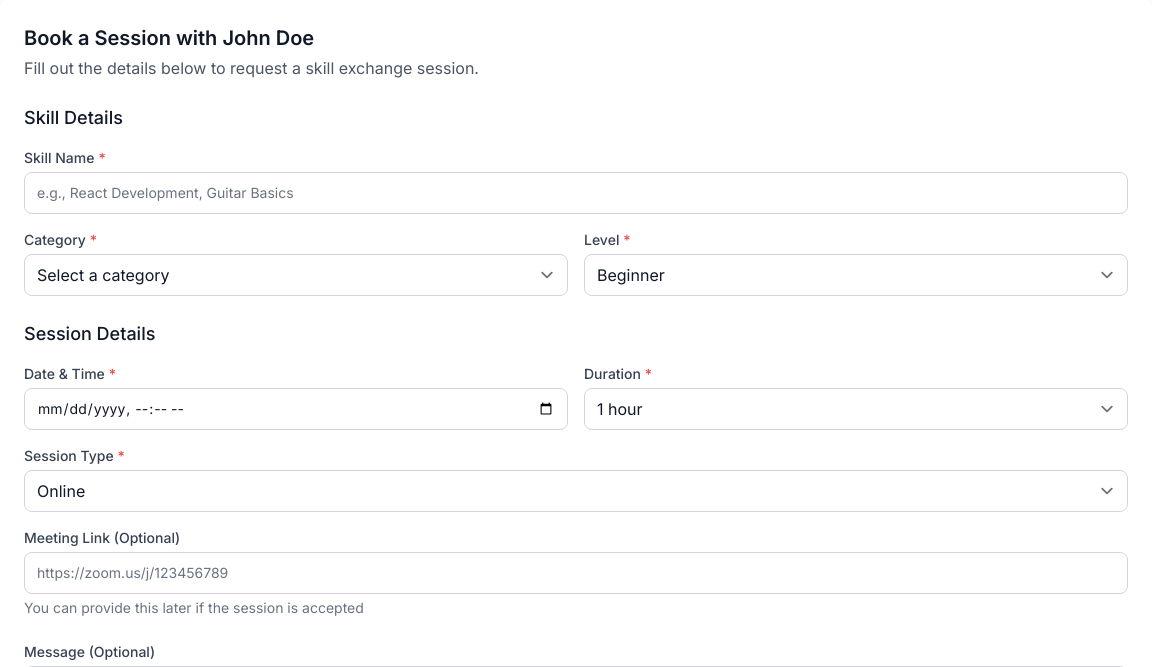
Test case: SessionBookingForm › shows location field for in-person sessions
The image size is (1152, 667).
Step 1. Select "In Person" in the dropdown labelled "Session Type *" → (576, 491), box [24,470,1128,512]
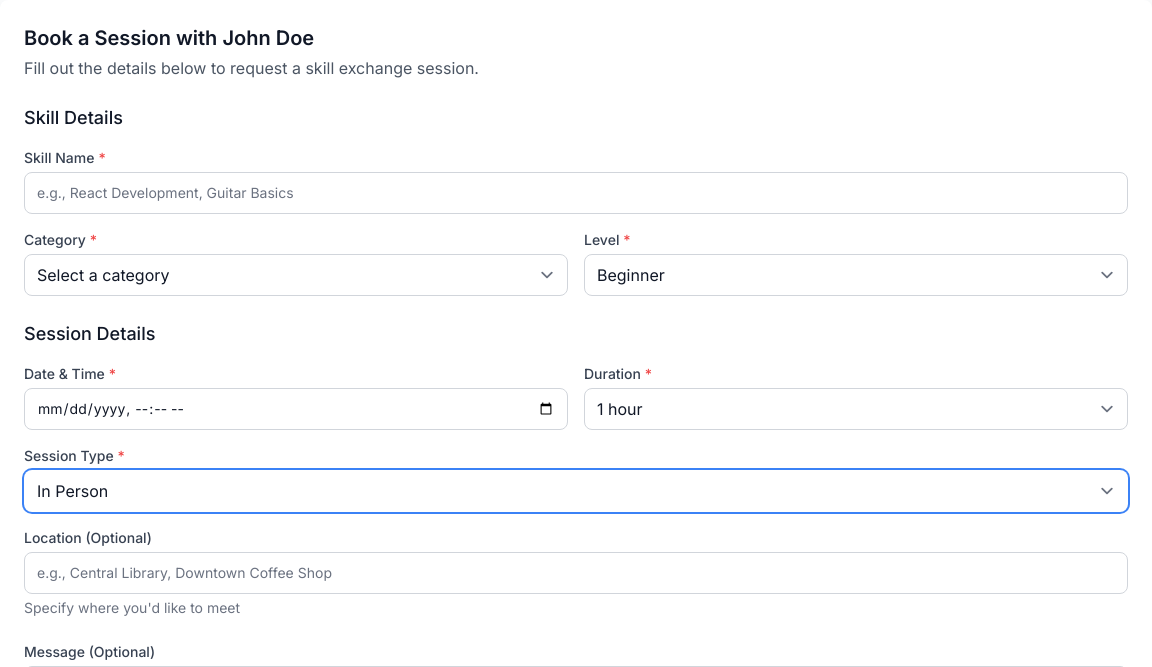
Expected: the field labelled "Location (Optional)" is shown, [24,552,1128,594]
